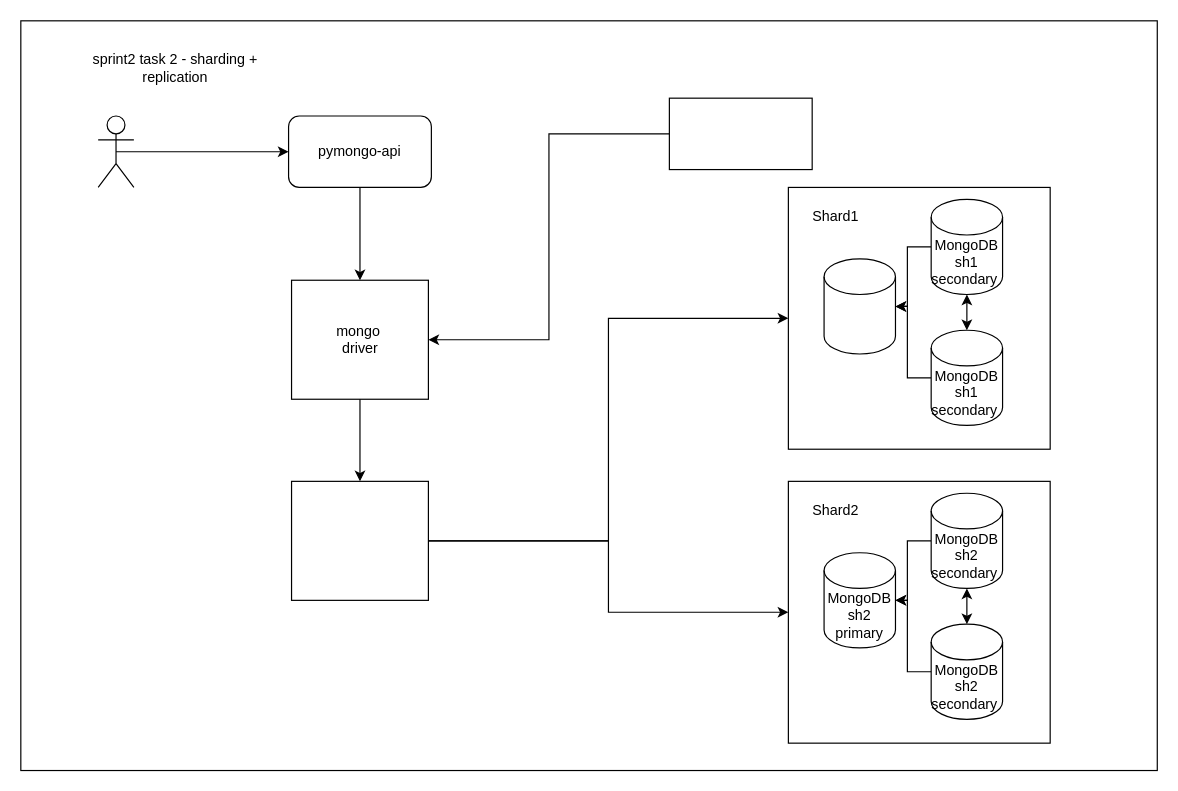
The diagram is 1178 pixels wide and 791 high, and some of its shapes have lost their labels. Each missing label, with the box of its shape:
configSrv ( данные о кластере ): (668, 97, 812, 170)
mongo router: (290, 480, 428, 600)
MongoDB sh1 primary: (823, 258, 895, 354)
User: (97, 115, 134, 187)
